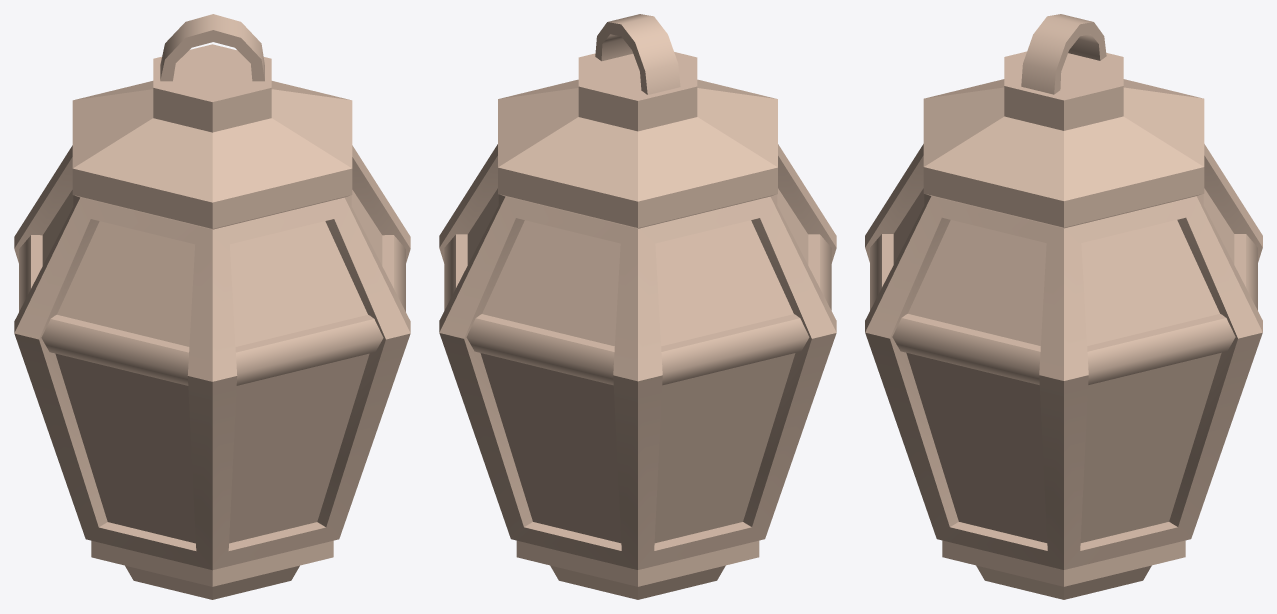
Rendered from lantern_01.fbx.
3 renders of one model, left to right at view 1: azimuth 30°, elevation 25°; view 2: azimuth 150°, elevation 25°; view 3: azimuth 270°, elevation 25°, orthographic.
Visible parts, largest first — view 1: lantern_01; view 2: lantern_01; view 3: lantern_01.
Part boxes in pixels (x1,y1,x2,y2): lantern_01: (14, 14, 410, 599); lantern_01: (439, 14, 836, 599); lantern_01: (865, 14, 1262, 599).
Bounding box in the file's own units: 51.49 × 66.97 × 44.59.
